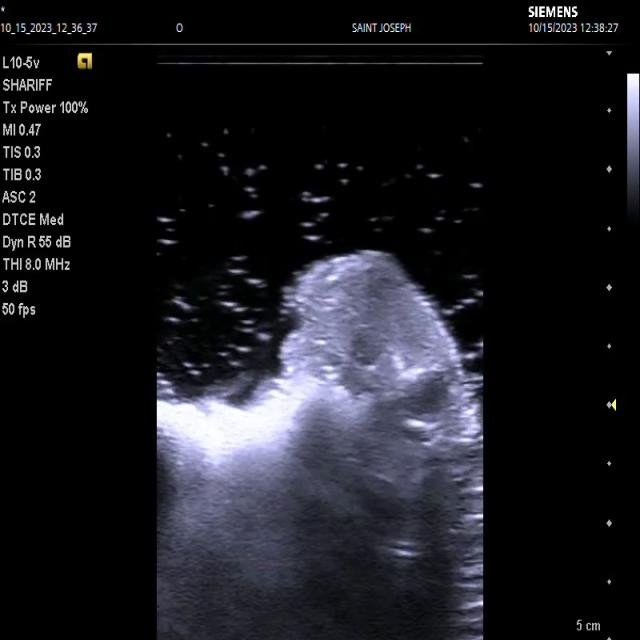tissue: (157, 250, 482, 640)
